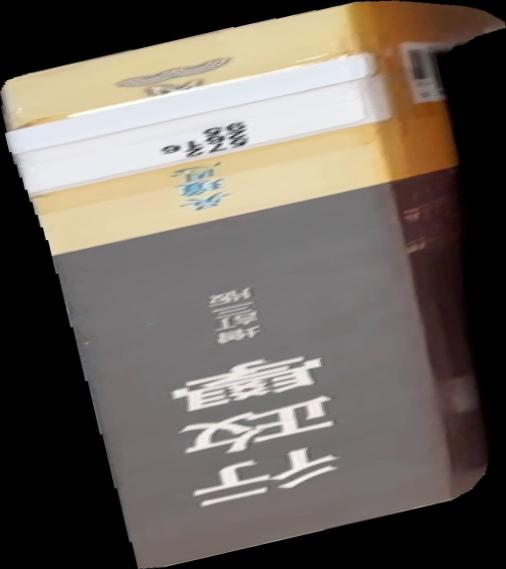reverse: (1, 1, 506, 569)
